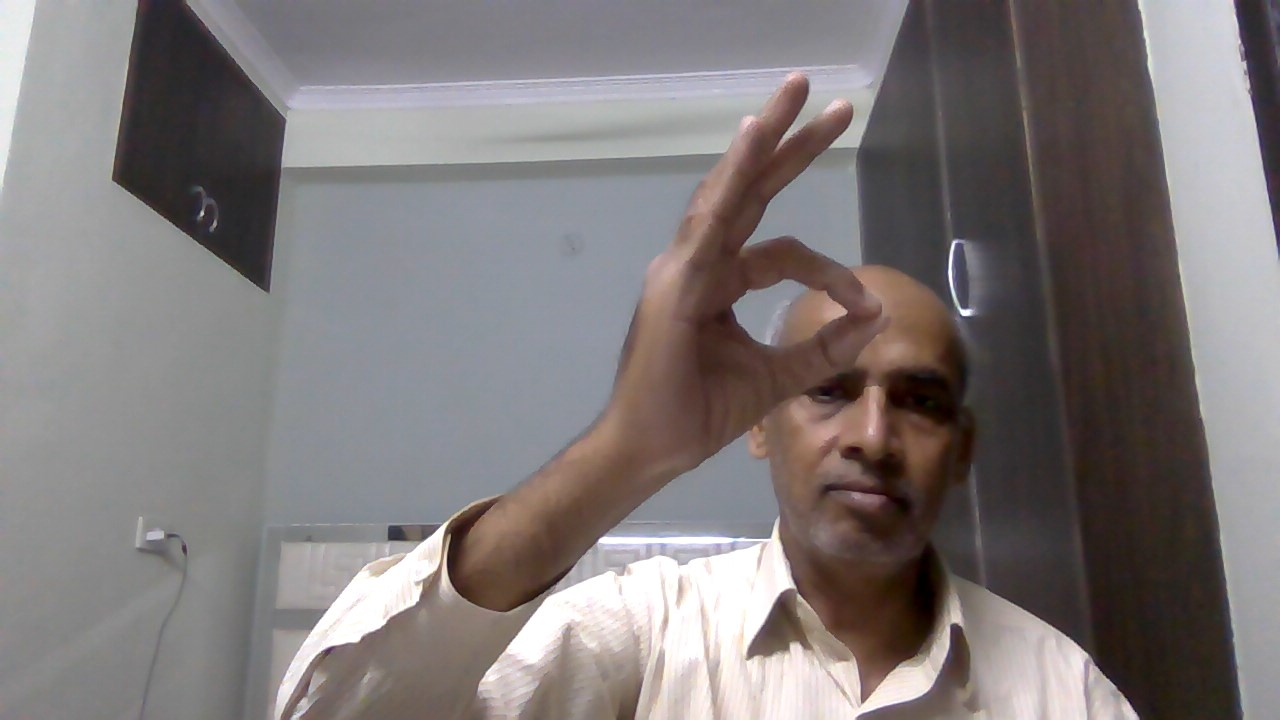Copy: (604, 64, 896, 497)
